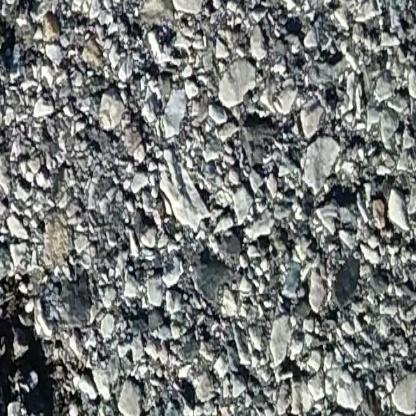Cracks: (0, 284, 87, 416), (0, 0, 47, 79)
